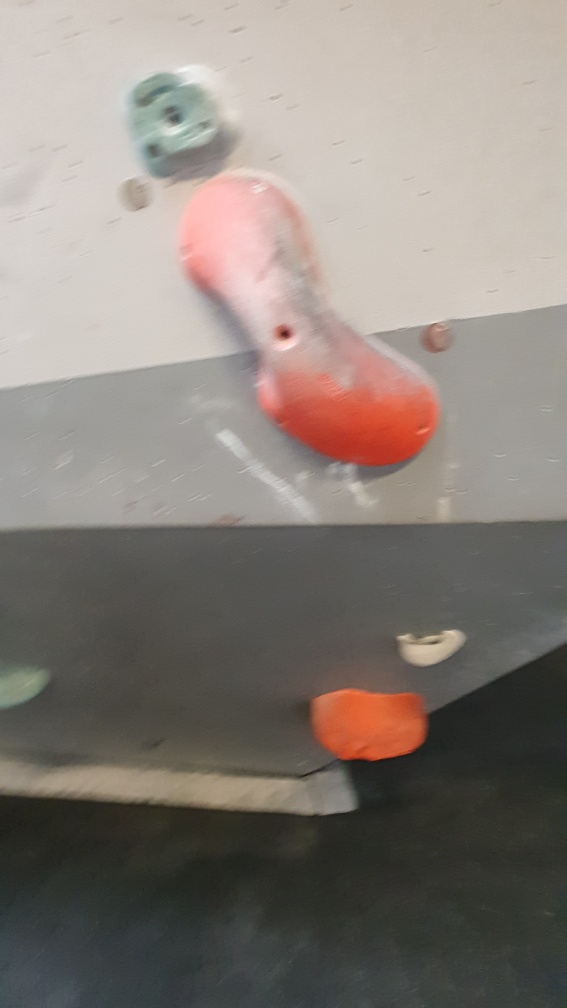Pinch: (176, 165, 439, 478)
